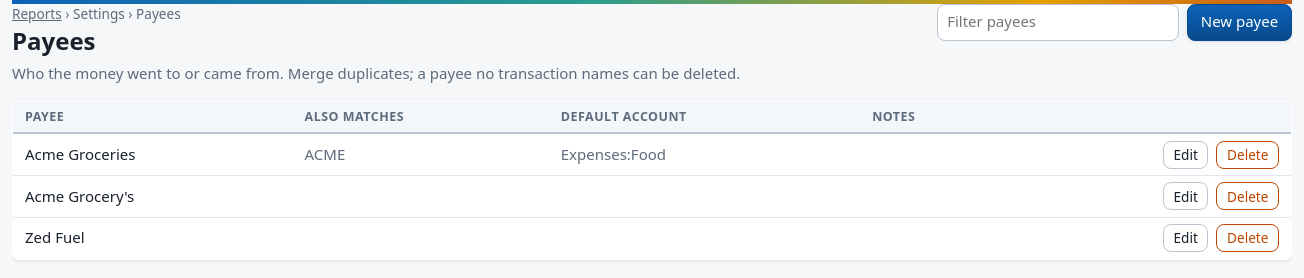
Test case: PayeesPage › lists payees with their matches and default account, filters, links to search
Expected: the number of rows is 4, [12, 101, 1292, 133]; [12, 133, 1292, 176]; [12, 176, 1292, 217]; [12, 217, 1292, 259]
Expected: the row "Acme Groceries ACME Expenses:Food Edit Delete" is shown, [12, 133, 1292, 176]
Step 1. Type "zed" into the search field labelled "Filter payees" → (1058, 22), box [937, 4, 1179, 40]
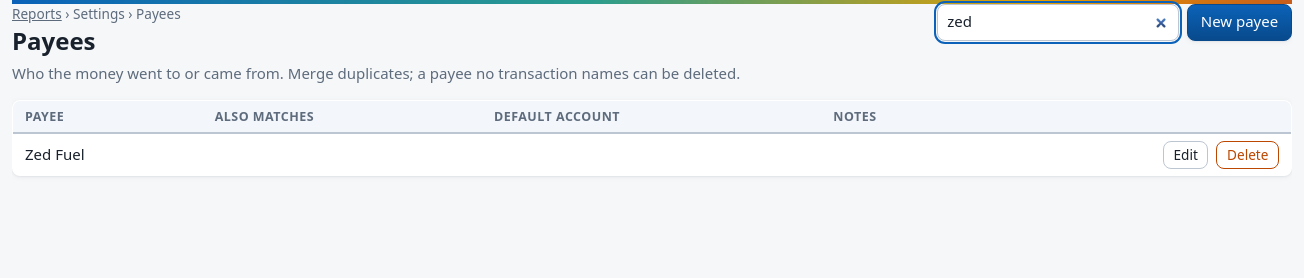
Now the number of rows is 2, box [12, 101, 1292, 133]; [12, 133, 1292, 176]
